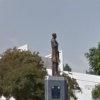Statue: (42, 23, 68, 82)
